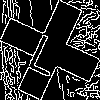L: (25, 25, 69, 77)
